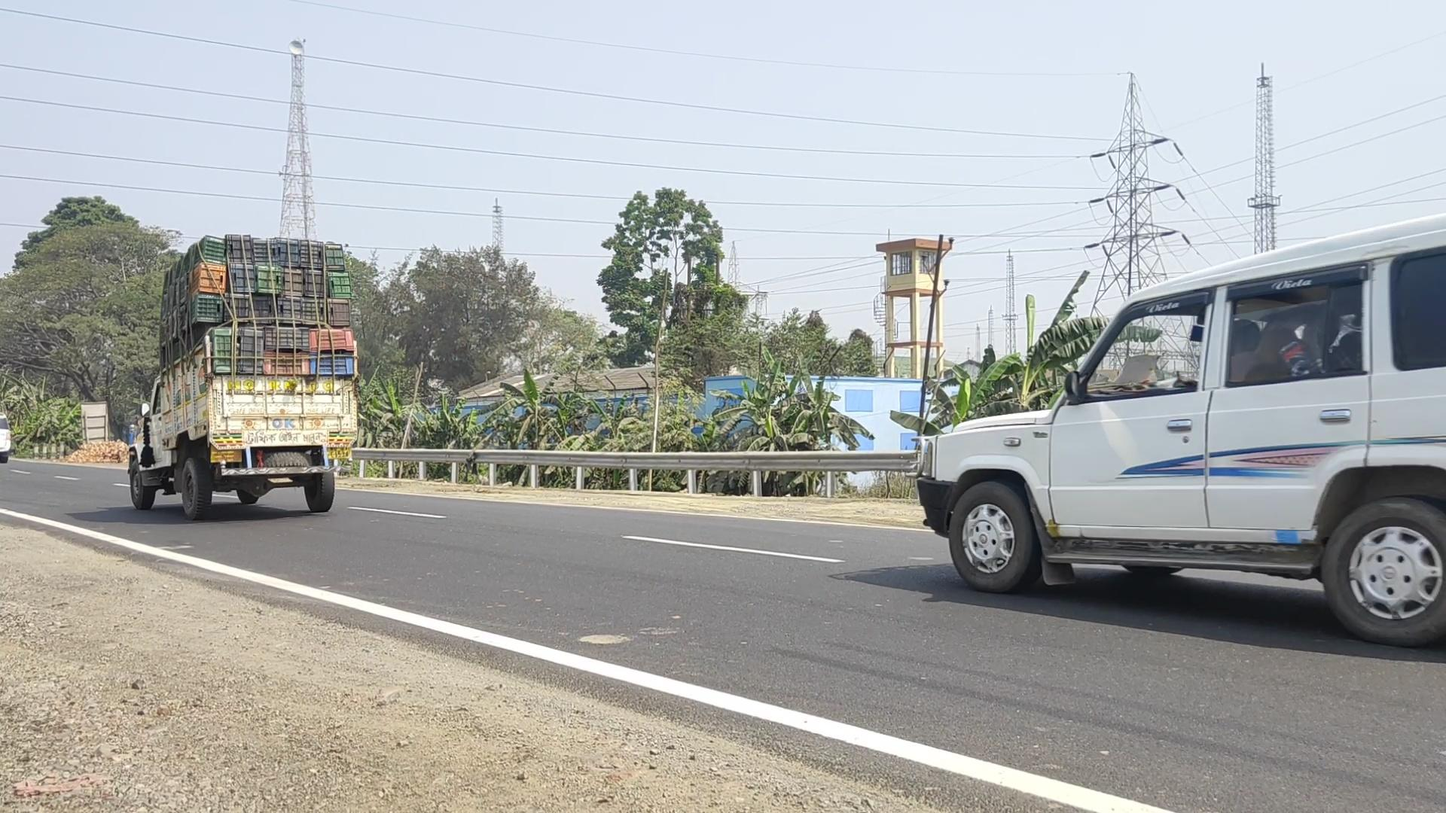car: (909, 209, 1446, 647)
van: (127, 232, 358, 519)
